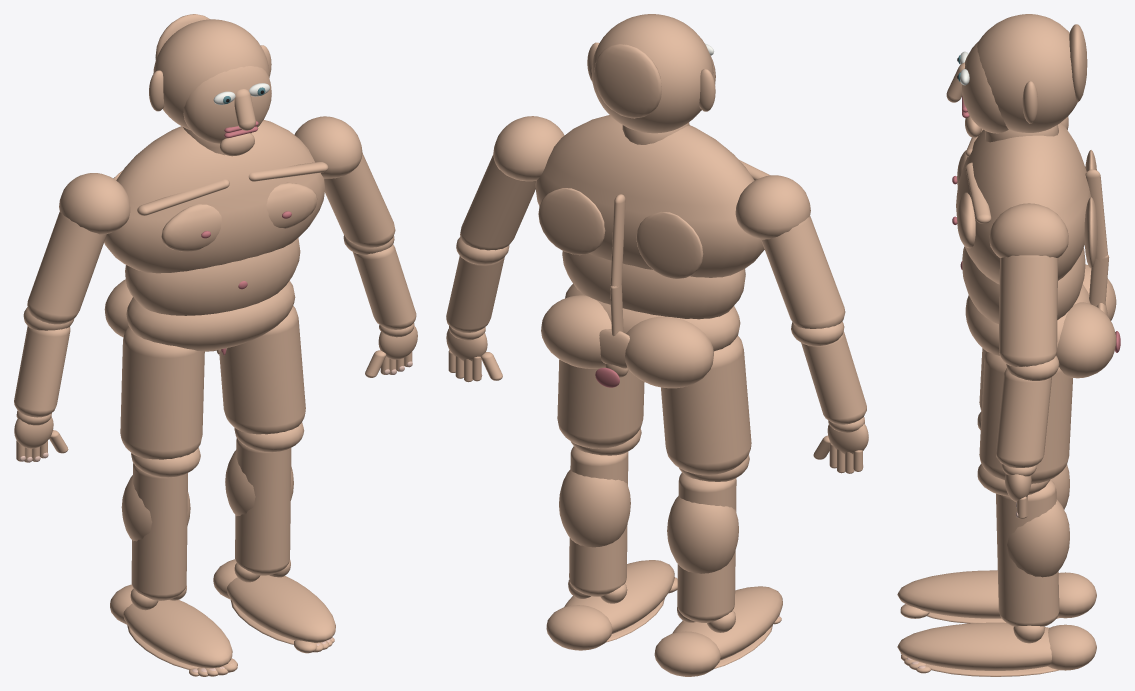
The model's file is body-kleinkind-weiblich-v2.glb.
3 views of the same model, side by side, from view 1: azimuth 30°, elevation 25°; view 2: azimuth 150°, elevation 25°; view 3: azimuth 270°, elevation 25° (orthographic). The views are drawn at different scales.
Parts seen in each view (by area): view 1: zone__surface-chest, zone__surface-thigh-left, zone__surface-thigh-right, zone__surface-abdomen, zone__surface-scalp, zone__surface-lower-leg-right, zone__surface-lower-leg-left, zone__surface-pelvis, zone__surface-upper-arm-left, zone__surface-foot-right, zone__surface-foot-left, zone__surface-upper-arm-right (+18 smaller); view 2: zone__surface-chest, zone__surface-thigh-left, zone__surface-scalp, zone__surface-abdomen, zone__surface-thigh-right, zone__surface-upper-arm-left, zone__surface-buttock-left, zone__surface-calf-right, zone__surface-calf-left, zone__surface-lower-leg-left, zone__surface-lower-leg-right, zone__surface-upper-arm-right (+19 smaller); view 3: zone__surface-chest, zone__surface-scalp, zone__surface-upper-arm-right, zone__surface-foot-right, zone__surface-lower-leg-right, zone__surface-thigh-right, zone__surface-forearm-right, zone__surface-foot-left, zone__surface-shoulder-right, zone__surface-buttock-right, zone__surface-calf-right, zone__surface-abdomen (+21 smaller).
Part boxes in pixels (x1=…): zone__surface-chest: x1=104, y1=120, x2=324, y2=273; zone__surface-thigh-left: x1=120, y1=327, x2=204, y2=459; zone__surface-thigh-right: x1=219, y1=305, x2=305, y2=434; zone__surface-abdomen: x1=125, y1=238, x2=300, y2=315; zone__surface-scalp: x1=153, y1=19, x2=269, y2=130; zone__surface-lower-leg-right: x1=235, y1=438, x2=291, y2=575; zone__surface-lower-leg-left: x1=131, y1=463, x2=187, y2=600; zone__surface-pelvis: x1=126, y1=280, x2=295, y2=351; zone__surface-upper-arm-left: x1=27, y1=212, x2=106, y2=324; zone__surface-foot-right: x1=226, y1=575, x2=335, y2=642; zone__surface-foot-left: x1=123, y1=600, x2=232, y2=668; zone__surface-upper-arm-right: x1=324, y1=153, x2=395, y2=247; zone__surface-chest: x1=535, y1=115, x2=764, y2=277; zone__surface-thigh-left: x1=661, y1=336, x2=751, y2=475; zone__surface-scalp: x1=591, y1=14, x2=713, y2=133; zone__surface-abdomen: x1=562, y1=251, x2=745, y2=319; zone__surface-thigh-right: x1=557, y1=359, x2=644, y2=448; zone__surface-upper-arm-left: x1=761, y1=215, x2=845, y2=328; zone__surface-buttock-left: x1=625, y1=316, x2=713, y2=388; zone__surface-calf-right: x1=559, y1=469, x2=630, y2=547; zone__surface-calf-left: x1=667, y1=496, x2=738, y2=573; zone__surface-lower-leg-left: x1=677, y1=473, x2=736, y2=622; zone__surface-lower-leg-right: x1=569, y1=446, x2=628, y2=596; zone__surface-upper-arm-right: x1=460, y1=155, x2=535, y2=250; zone__surface-chest: x1=956, y1=123, x2=1090, y2=284; zone__surface-scalp: x1=977, y1=14, x2=1077, y2=132; zone__surface-upper-arm-right: x1=999, y1=255, x2=1058, y2=366; zone__surface-foot-right: x1=897, y1=622, x2=1051, y2=670; zone__surface-lower-leg-right: x1=996, y1=479, x2=1059, y2=626; zone__surface-thigh-right: x1=979, y1=351, x2=1072, y2=483; zone__surface-forearm-right: x1=996, y1=368, x2=1051, y2=467; zone__surface-foot-left: x1=897, y1=570, x2=1001, y2=618; zone__surface-shoulder-right: x1=989, y1=203, x2=1068, y2=257; zone__surface-buttock-right: x1=1056, y1=302, x2=1116, y2=378; zone__surface-calf-right: x1=1007, y1=499, x2=1069, y2=577; zone__surface-abdomen: x1=962, y1=246, x2=1085, y2=323.
Size of the model in its own units: 0.7021 by 0.9994 by 0.3264.
